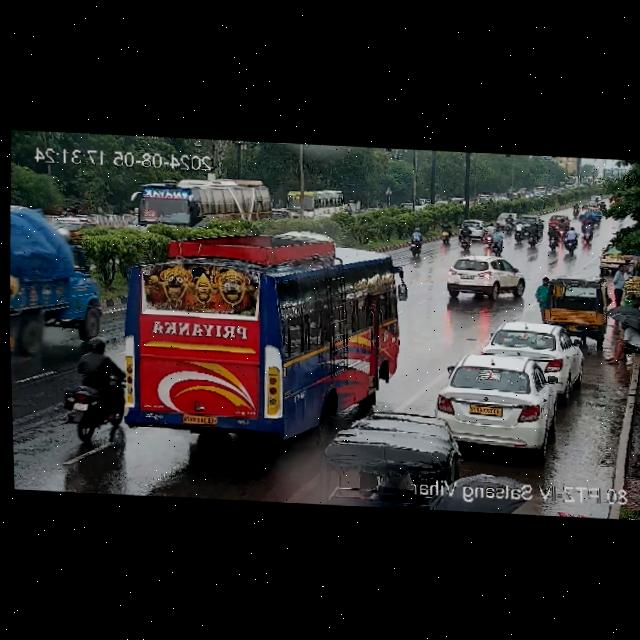bus: (114, 220, 418, 456), (133, 166, 274, 231)
car: (452, 347, 562, 450), (327, 413, 465, 480), (495, 318, 585, 395), (549, 279, 610, 351), (443, 252, 529, 303), (452, 217, 484, 241), (458, 217, 484, 239), (518, 211, 541, 230), (494, 210, 518, 227), (547, 215, 572, 231), (580, 210, 602, 224)
motorcycle: (62, 332, 128, 442), (407, 226, 423, 256), (458, 223, 475, 249), (563, 227, 578, 255), (526, 219, 538, 248), (548, 223, 559, 253), (491, 231, 505, 254), (438, 219, 452, 242), (483, 223, 496, 247), (512, 220, 526, 242), (584, 219, 592, 243), (584, 211, 594, 228), (571, 201, 580, 218)
person: (605, 320, 640, 365), (533, 273, 552, 320), (609, 261, 626, 307)
truck: (7, 224, 109, 351), (286, 186, 345, 221)
